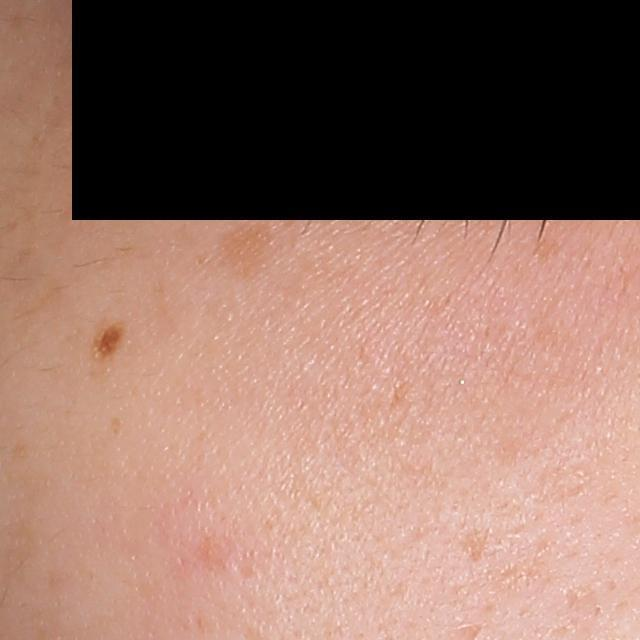melasma: (207, 221, 277, 279), (530, 234, 562, 265)
nevus: (90, 320, 128, 359)
